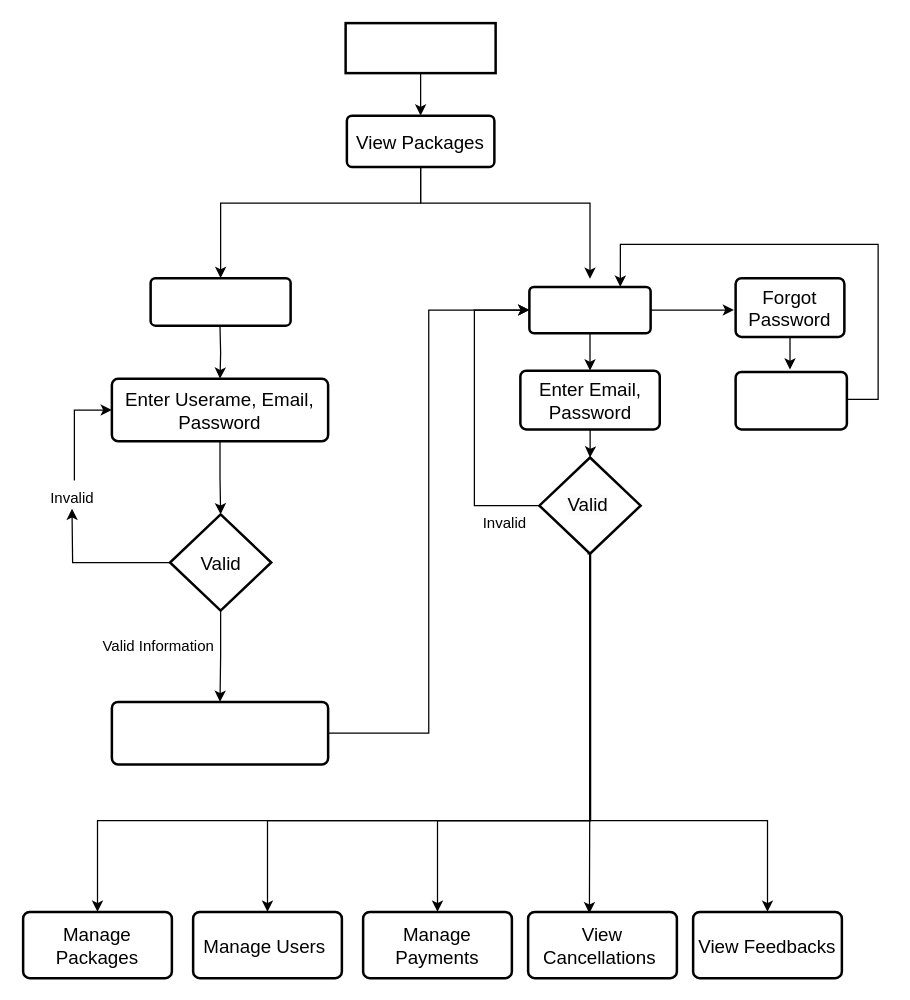
Image size: 910x1000. Some labels were removed from this diagram. The shapes that lost their labels are listed below. From the top down, each one's centre as x and y in pixels, then its label:
At point (420, 47): "Admin".
At point (220, 301): "Register".
At point (589, 309): "Login".
At point (791, 400): "Change Password".
At point (219, 732): "Successfully Registered".
